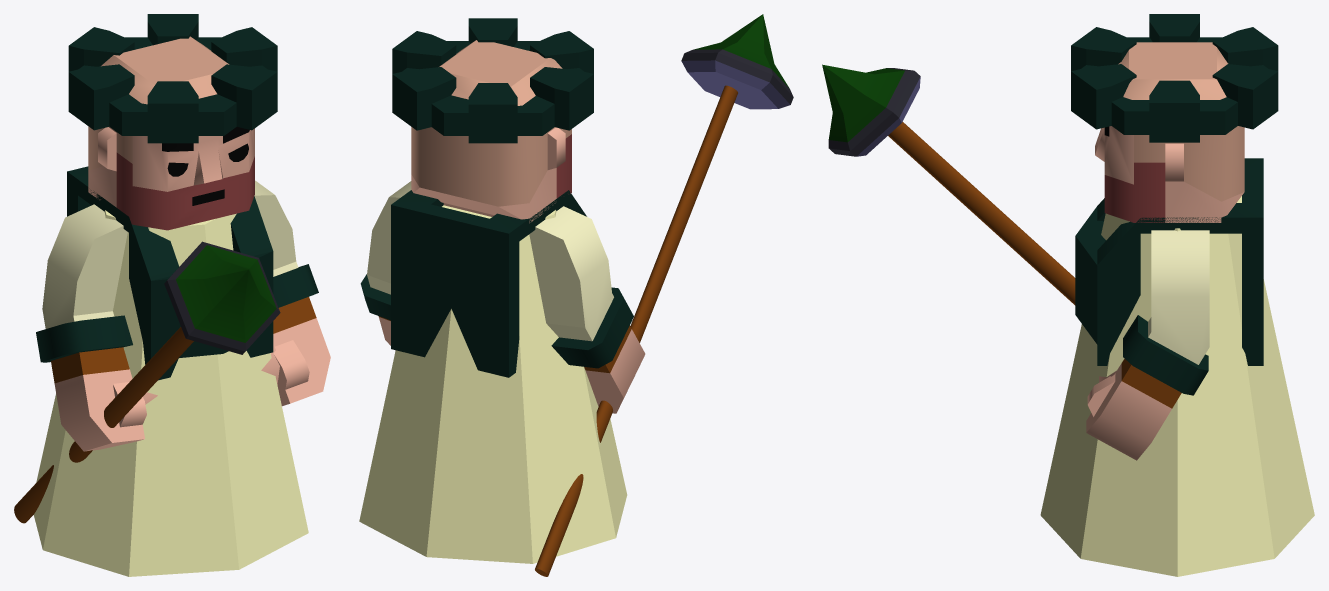
The model's file is Enemy8.fbx.
3 renders of one model, left to right at view 1: azimuth 30°, elevation 25°; view 2: azimuth 150°, elevation 25°; view 3: azimuth 270°, elevation 25°, orthographic. The views are drawn at different scales.
Parts seen in each view (by area): view 1: mergedBlocks; view 2: mergedBlocks; view 3: mergedBlocks.
Part boxes in pixels (box(x1,y1,x2,y2)): mergedBlocks: box(14, 14, 330, 576); mergedBlocks: box(359, 14, 793, 576); mergedBlocks: box(822, 14, 1314, 576).
Bounding box in the file's own units: 5.41 × 8.9 × 8.44.
